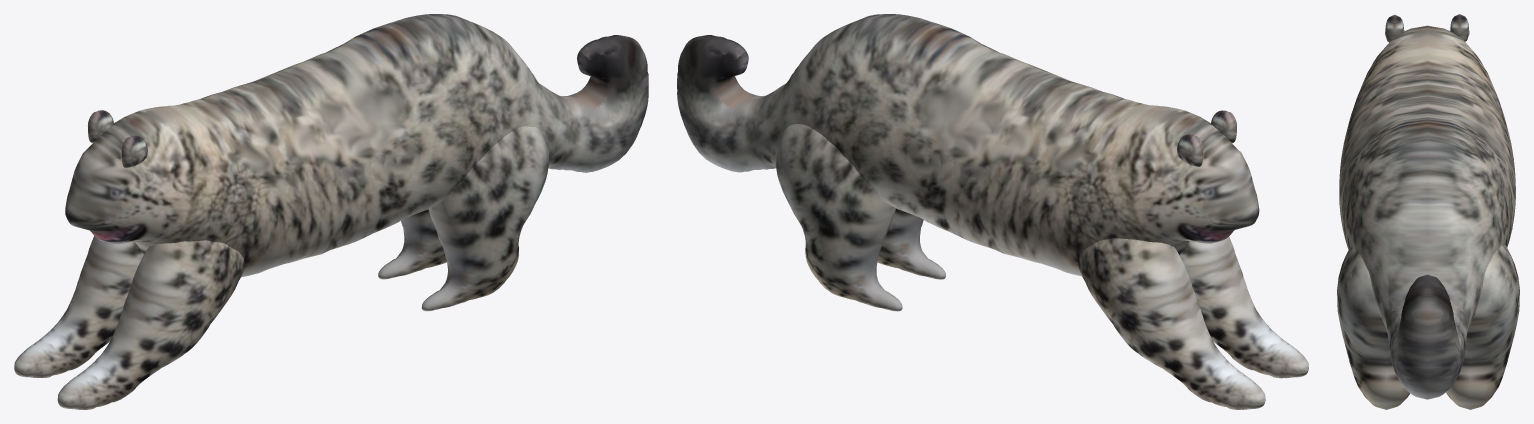
The model's file is snow-leopard.glb.
3 renders of one model, left to right at view 1: azimuth 30°, elevation 25°; view 2: azimuth 150°, elevation 25°; view 3: azimuth 270°, elevation 25°, orthographic. The views are drawn at different scales.
Visible parts, largest first — view 1: mm_frame (48); view 2: mm_frame (48); view 3: mm_frame (48).
Part boxes in pixels (x1=…): mm_frame (48): x1=14, y1=14, x2=648, y2=409; mm_frame (48): x1=677, y1=14, x2=1308, y2=409; mm_frame (48): x1=1337, y1=14, x2=1519, y2=409.
Size of the model in its own units: 5.42 by 2.42 by 1.47.
Materials: 1 (1 with a texture image).
